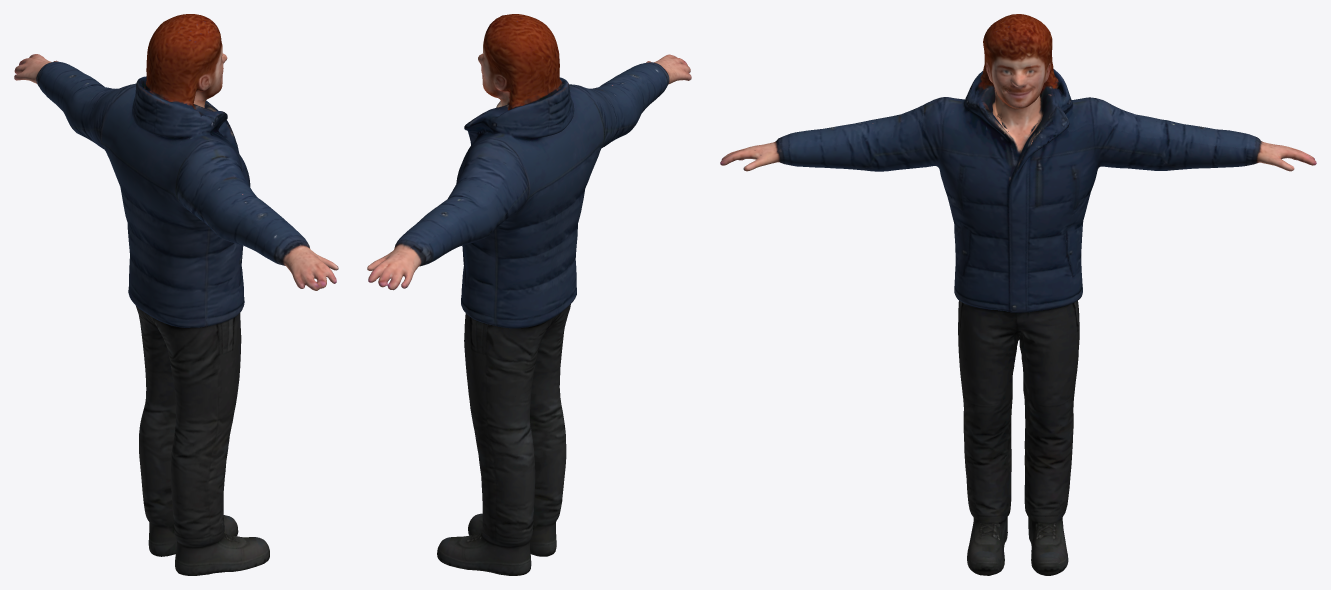
Rendered from winter.glb.
The picture shows the model from 3 angles, left to right: view 1: azimuth 30°, elevation 25°; view 2: azimuth 150°, elevation 25°; view 3: azimuth 270°, elevation 25°; orthographic projection. The views are drawn at different scales.
Parts seen in each view (by area): view 1: Mario Winter; view 2: Mario Winter; view 3: Mario Winter.
Boxes of the visible parts, <box> form: Mario Winter: <box>14,14,338,575</box>; Mario Winter: <box>367,14,691,575</box>; Mario Winter: <box>720,14,1316,575</box>.
Bounding box in the file's own units: 0.2221 × 0.9753 × 0.9955.
1 material, 1 textured.
